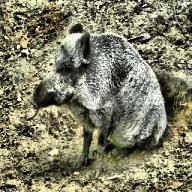boar: (31, 23, 169, 178)
